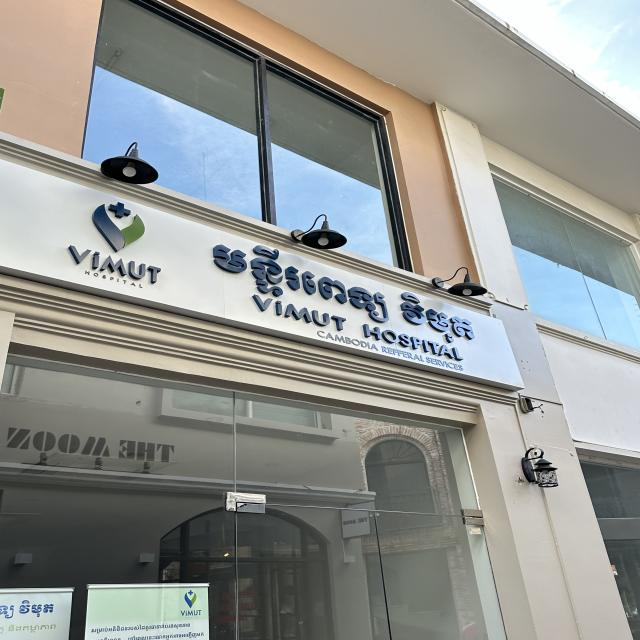Yolov11kh: (190, 228, 481, 348)
